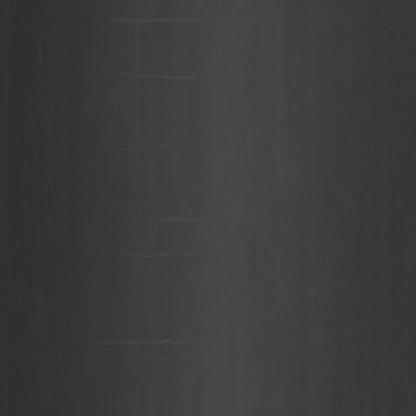waist_folding: (81, 48, 203, 387)
